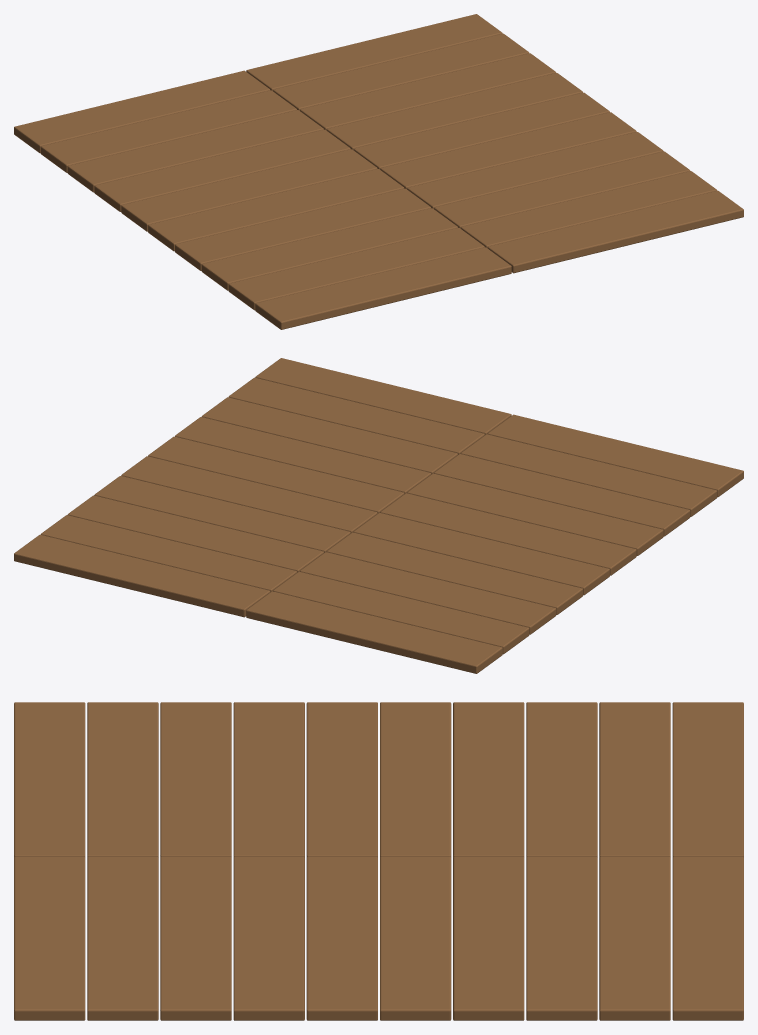
Rendered from SM_HH_Art_FloorTile2m.fbx.
3 views of the same model, one above another, from view 1: azimuth 30°, elevation 25°; view 2: azimuth 150°, elevation 25°; view 3: azimuth 270°, elevation 25° (orthographic). The views are drawn at different scales.
Parts seen in each view (by area): view 1: HH_Art_FloorTile2m; view 2: HH_Art_FloorTile2m; view 3: HH_Art_FloorTile2m.
Boxes of the visible parts, left/top/right/bottom form: HH_Art_FloorTile2m: left=14, top=14, right=743, bottom=329; HH_Art_FloorTile2m: left=14, top=358, right=743, bottom=673; HH_Art_FloorTile2m: left=14, top=702, right=743, bottom=1020.
Size of the model in its own units: 2 by 2 by 0.034.
